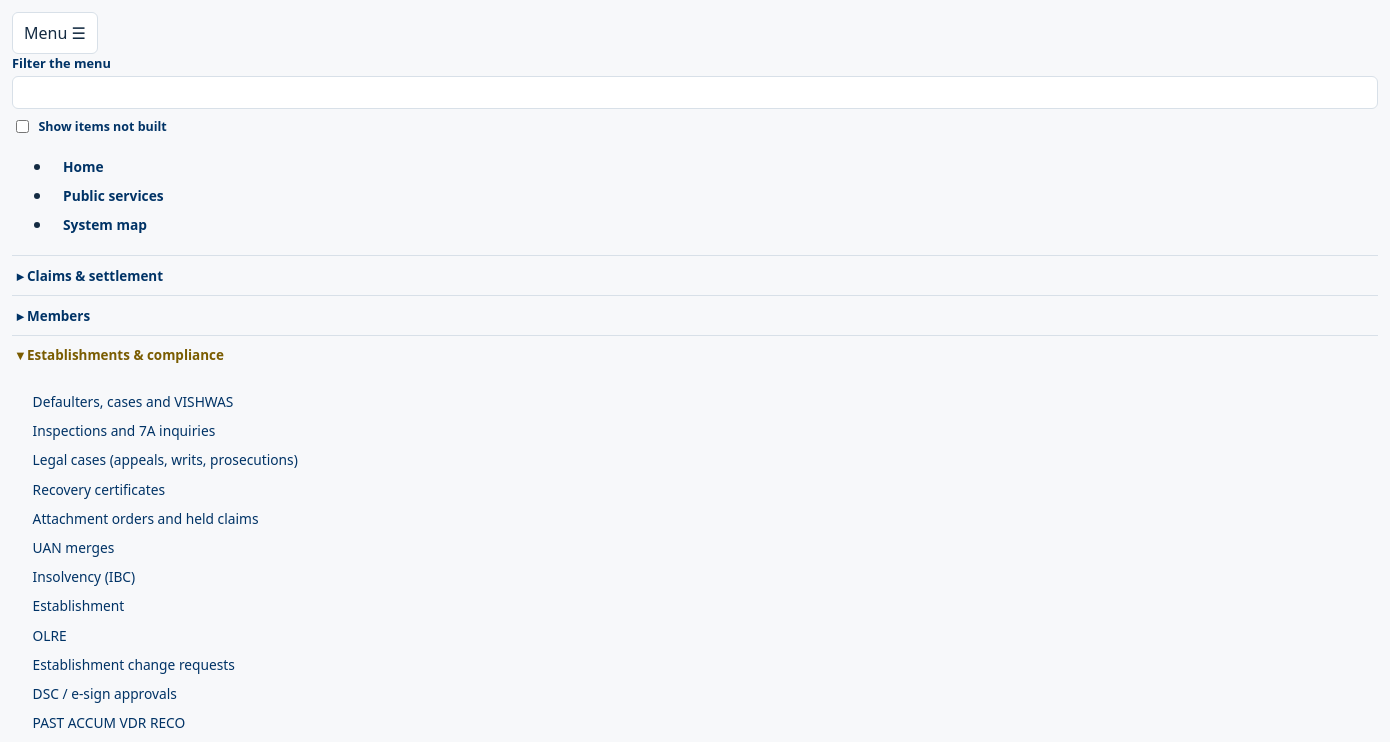
Scenario: draws the side menu as a tree: the current page's group open, others folded, a filter across all
Click the button "▸ Claims & settlement" at [95, 276], box [12,260,1378,291]
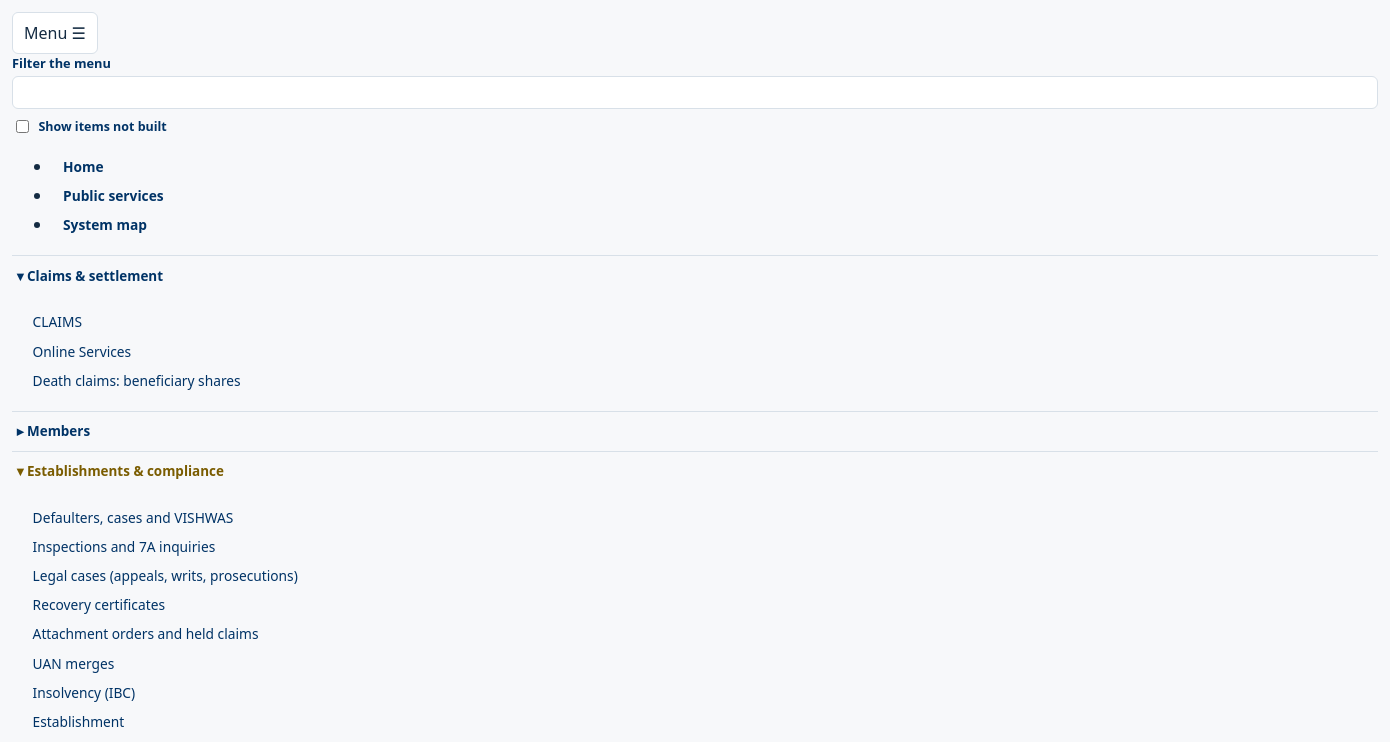
Now the button "▾ Claims & settlement" is expanded, box [12,260,1378,291]
Click the checkbox labelled "Show items not built" at [22, 126], box [16,120,29,133]
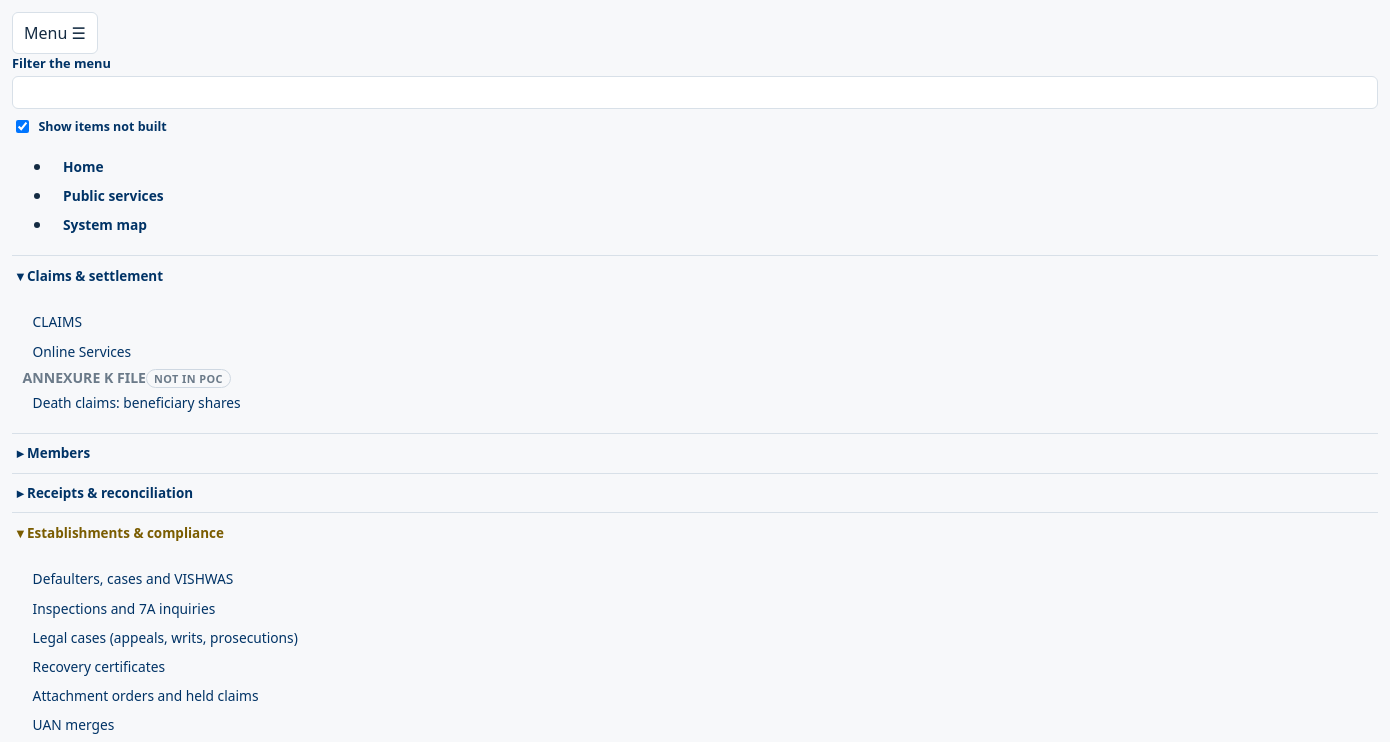
Type "recovery" into the search field labelled "Filter the menu" at [695, 92], box [12,76,1378,109]
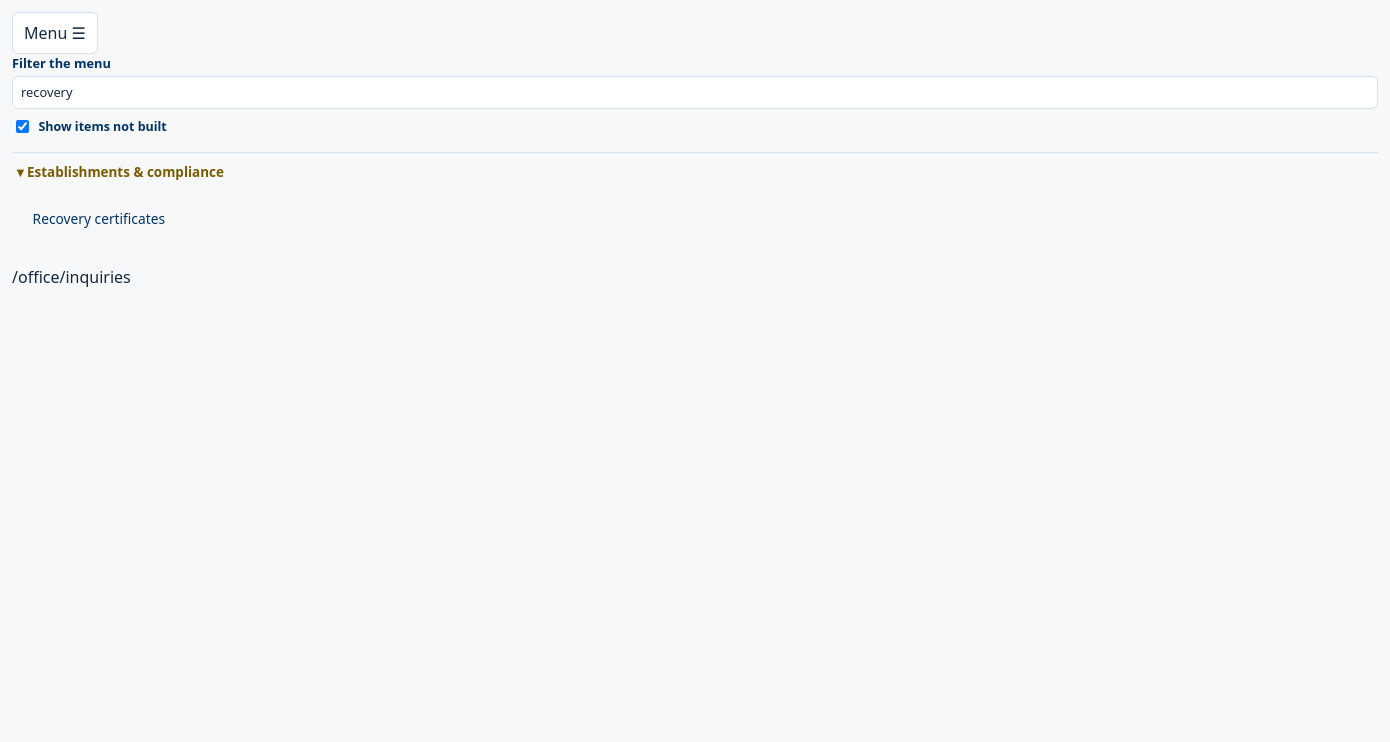
Now the link "Recovery certificates" is shown, box [33,209,165,228]
Now the link "Inspections and 7A inquiries" is gone
